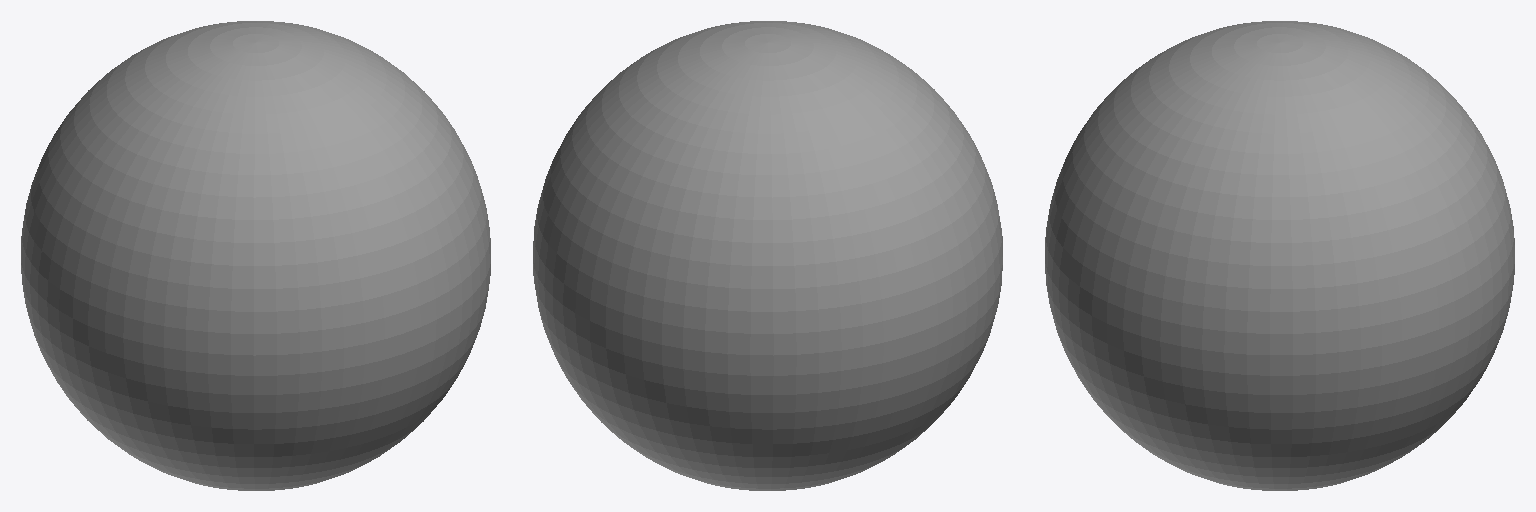
Rendered from mars.obj.
3 views of the same model, side by side, from view 1: azimuth 30°, elevation 25°; view 2: azimuth 150°, elevation 25°; view 3: azimuth 270°, elevation 25° (orthographic).
Parts seen in each view (by area): view 1: Ceres_Sphere; view 2: Ceres_Sphere; view 3: Ceres_Sphere.
Part boxes in pixels (x1,y1,x2,y2): Ceres_Sphere: (21,21,490,490); Ceres_Sphere: (533,21,1002,490); Ceres_Sphere: (1045,21,1514,490).
Size of the model in its own units: 18.75 by 18.77 by 18.75.